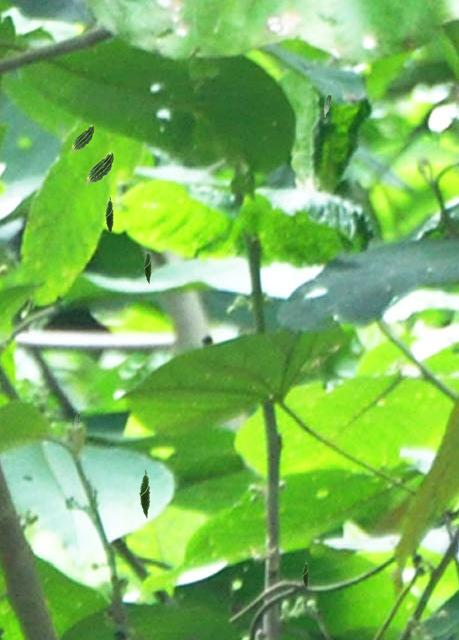ampalaya: (85, 152, 114, 185), (70, 124, 94, 152), (138, 469, 151, 518), (104, 196, 114, 235), (143, 248, 152, 284), (301, 559, 309, 589), (323, 92, 331, 117), (73, 411, 80, 431)
